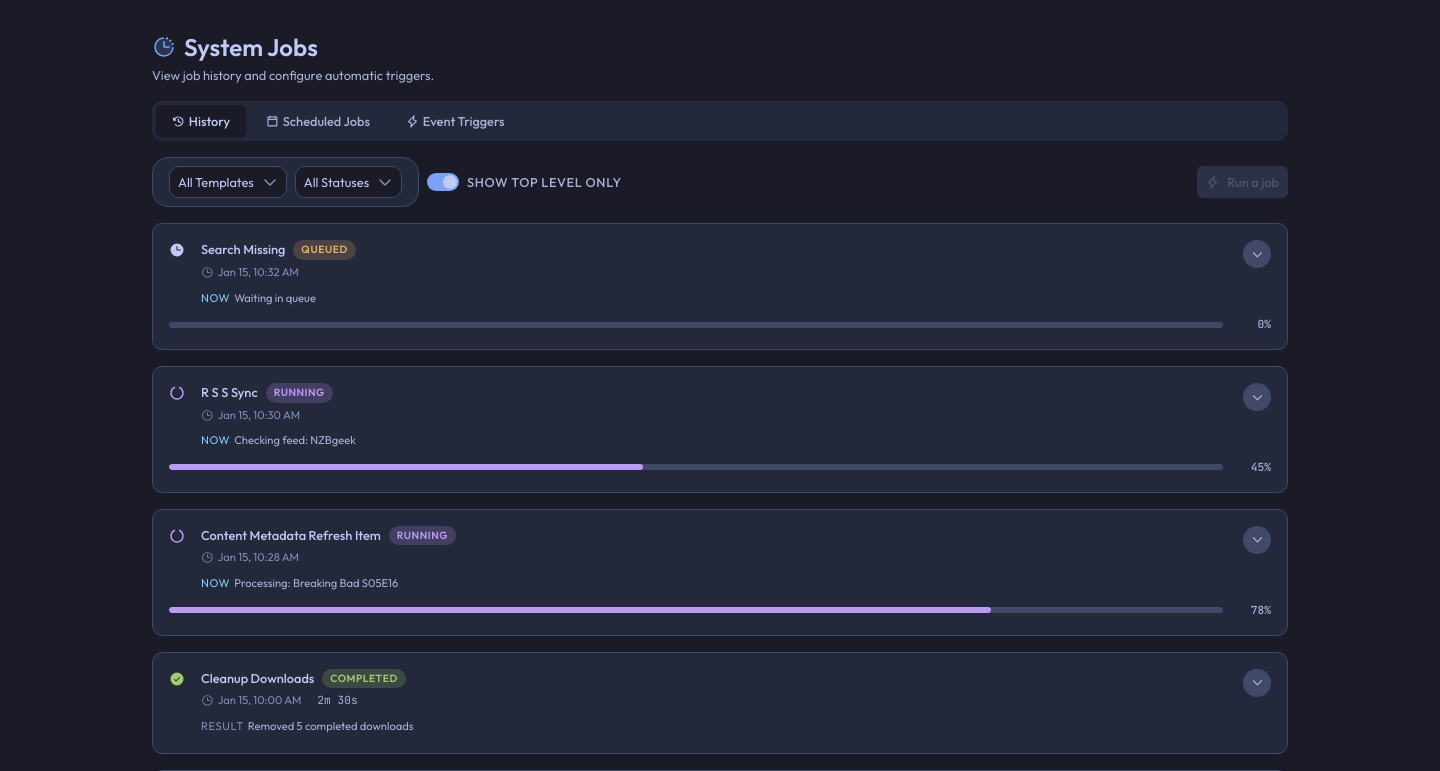
it: JobsPage Executions tab - filtering › shows empty state when filters match nothing
Click the dropdown named "filter by template". click: (228,182)
box: [169,166,287,198]
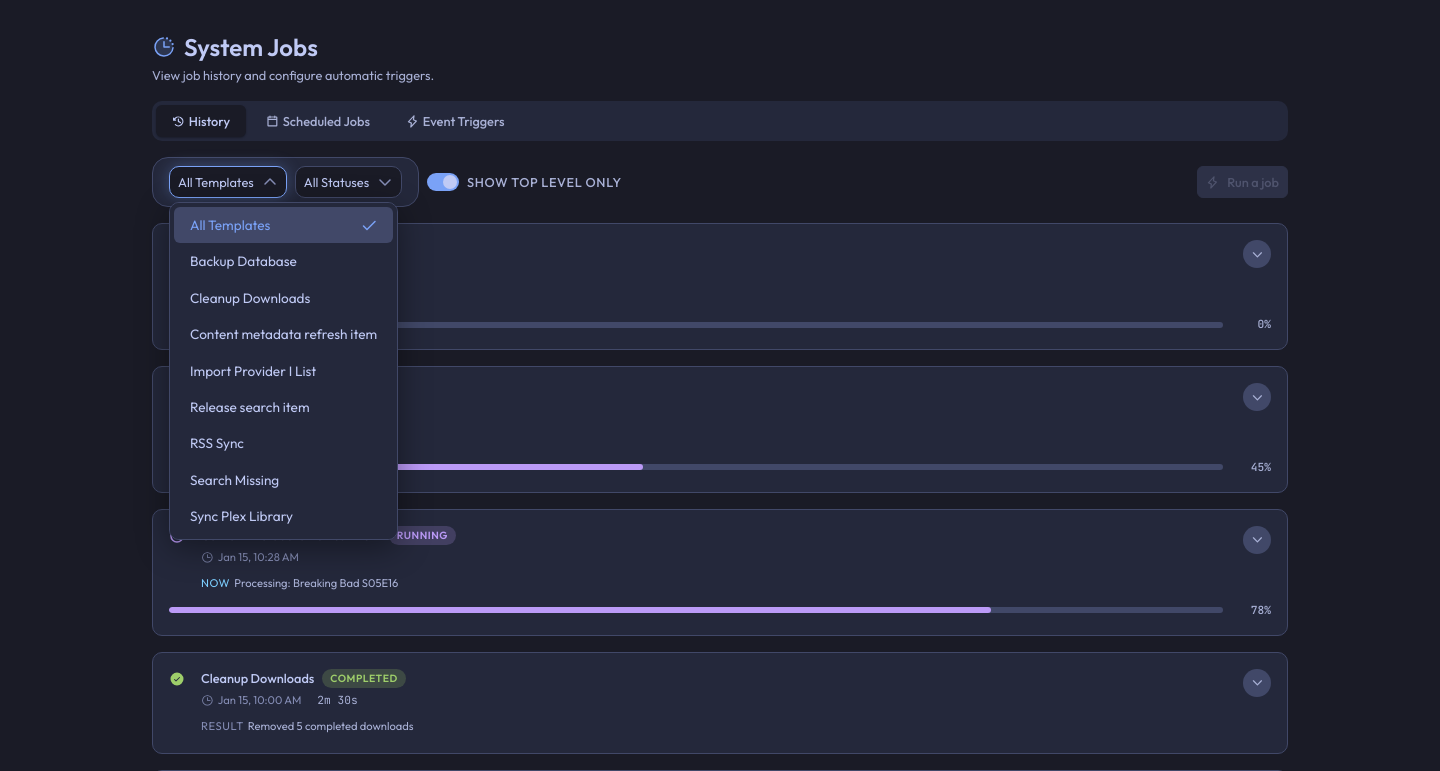
Click the option "Backup Database". click: (243,261)
box: [190,252,297,270]
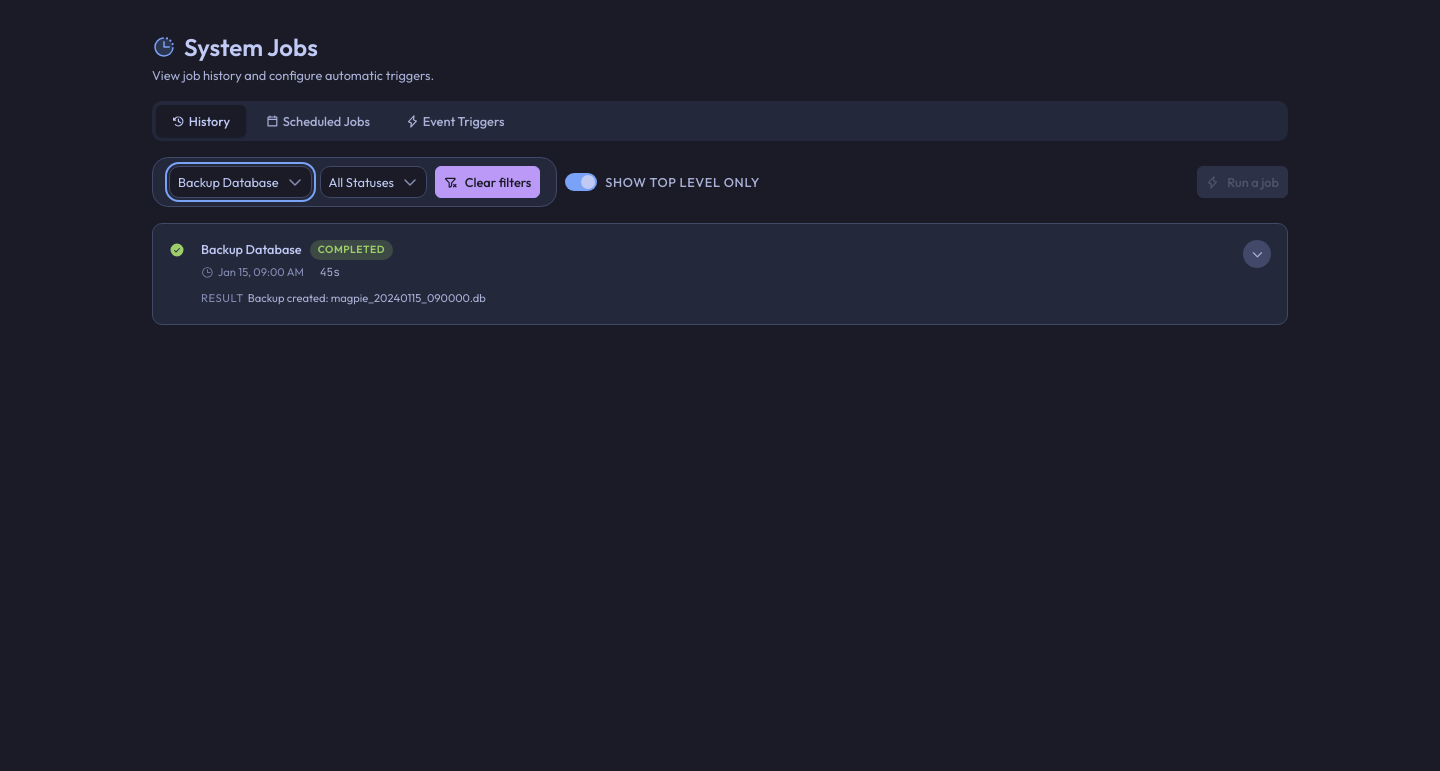
Click the dropdown named "filter by status". click: (373,182)
box: [320,166,427,198]
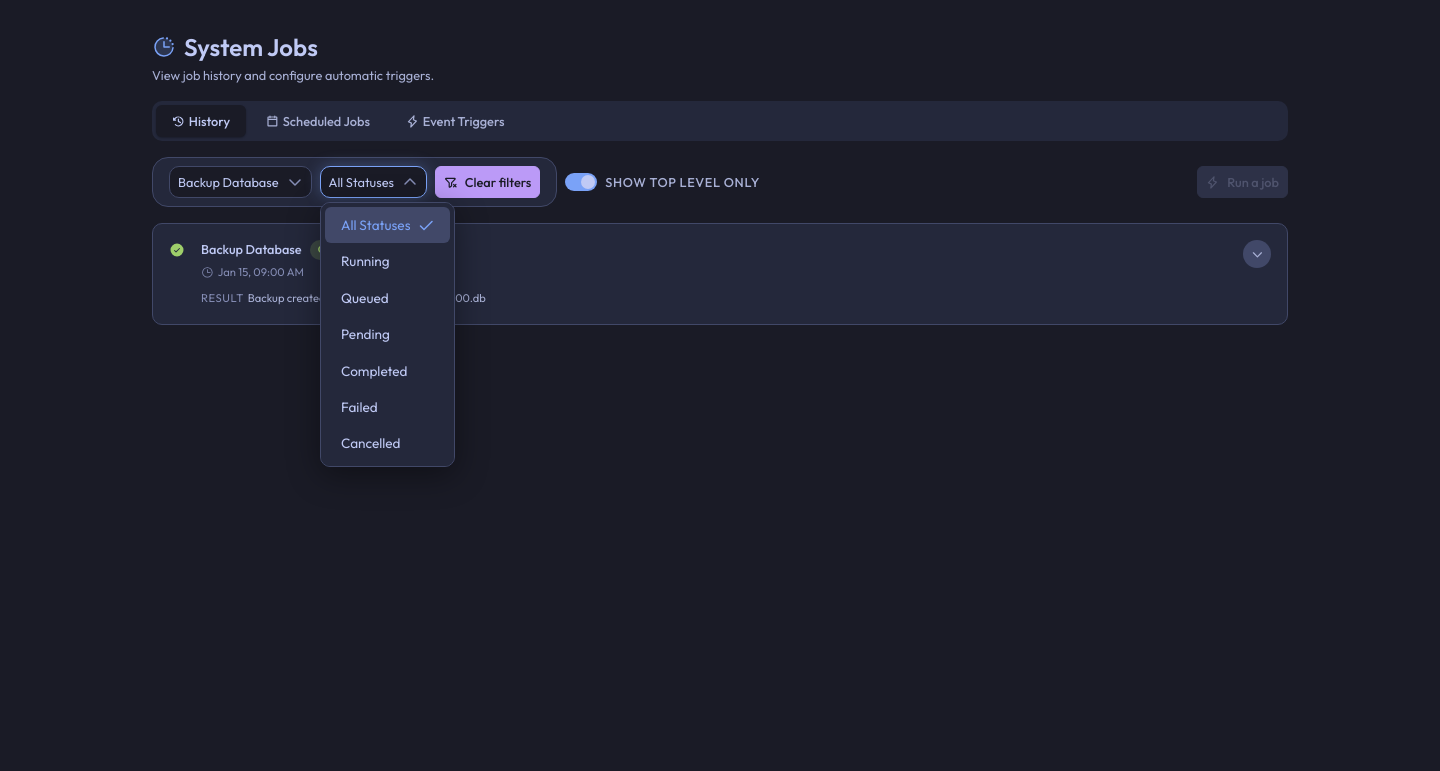
Click the option "Running". click: (365,261)
box: [341,252,390,270]
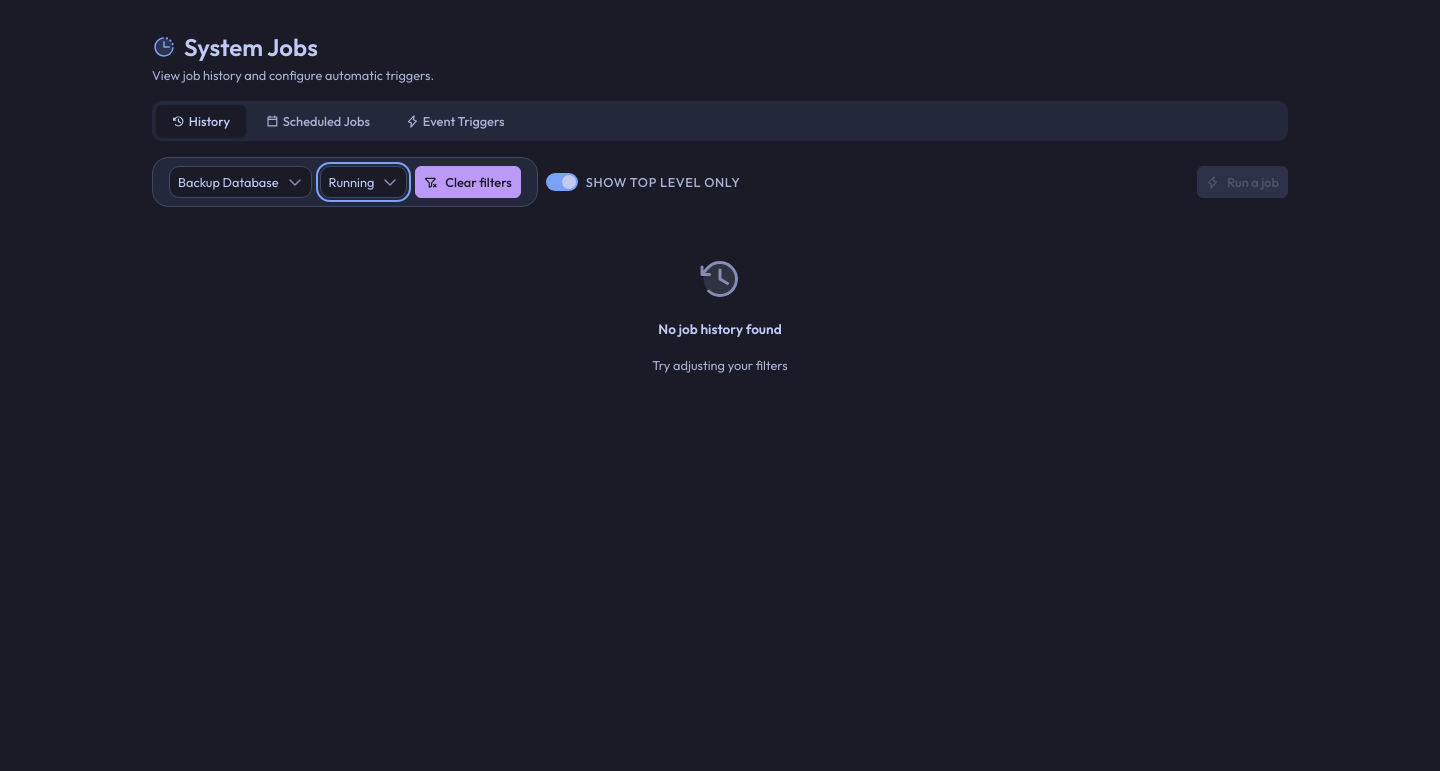
Result: the heading "No job history found" is shown at [658,319,782,340]
Result: the text "Try adjusting your filters" is shown at [652,356,788,375]
